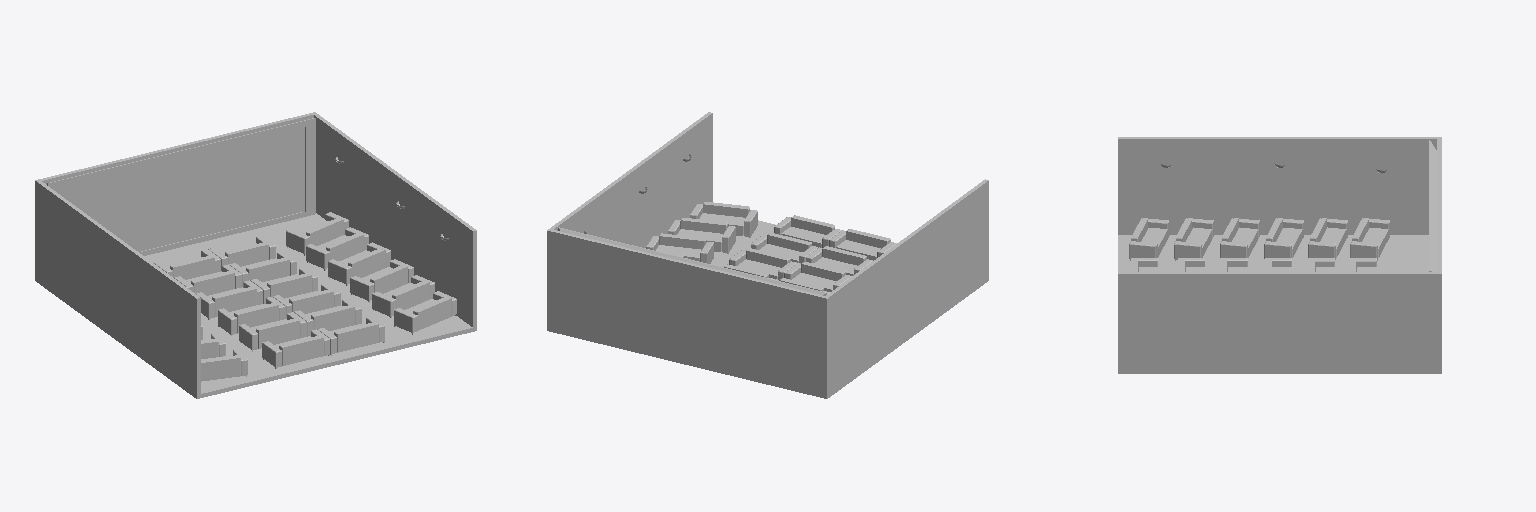
Rendered from theater.obj.
The picture shows the model from 3 angles: view 1: azimuth 30°, elevation 25°; view 2: azimuth 150°, elevation 25°; view 3: azimuth 270°, elevation 25°; orthographic projection.
Visible parts, largest first — view 1: theater; view 2: theater; view 3: theater.
Part boxes in pixels (left/top/right/bottom): theater: left=35, top=112, right=476, bottom=398; theater: left=547, top=112, right=988, bottom=398; theater: left=1118, top=137, right=1441, bottom=373.
Bounding box in the file's own units: 420 × 145 × 420.